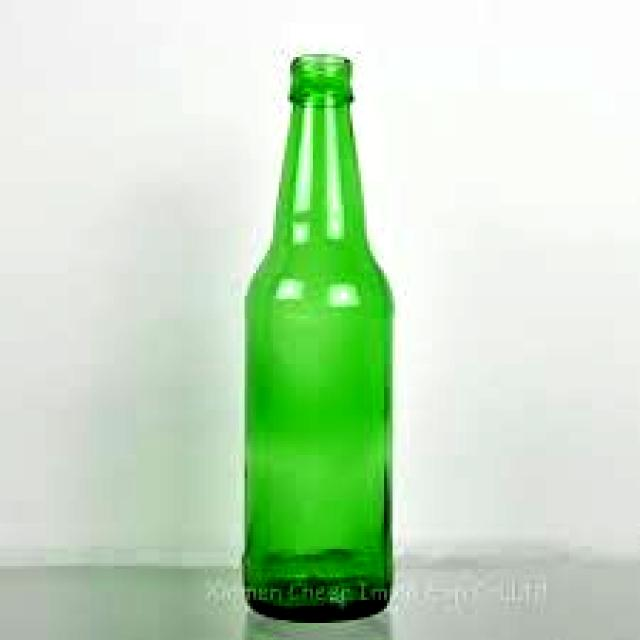Glass: (236, 48, 396, 624)
